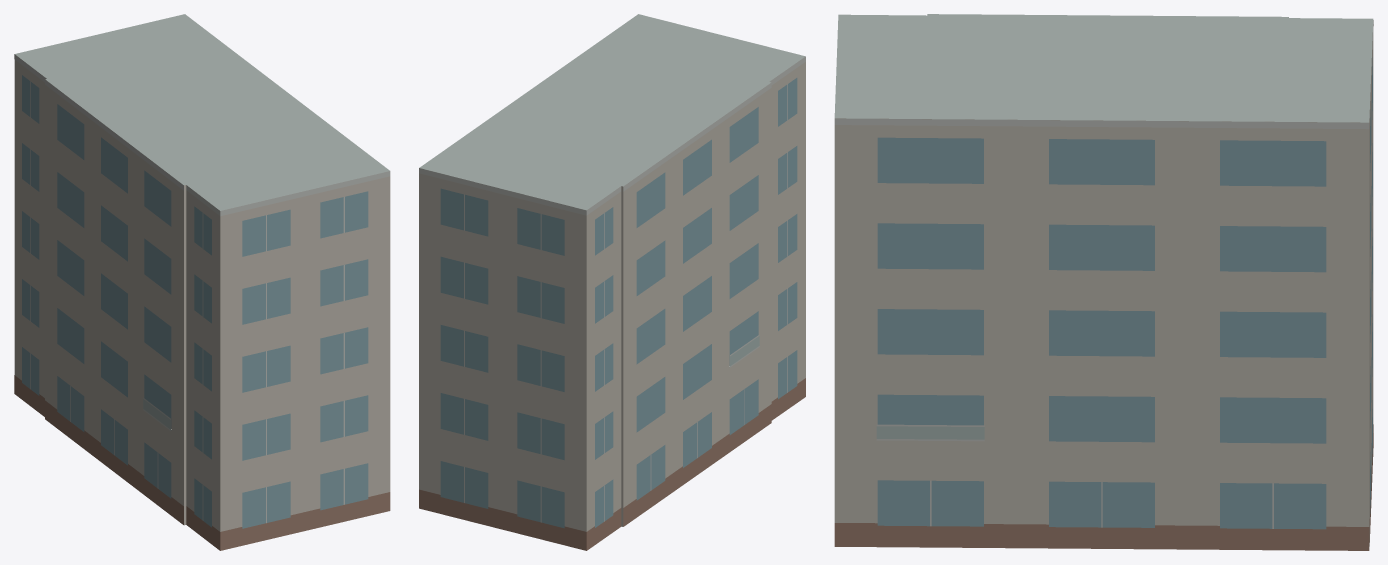
Rendered from survey-upis-32739587.glb.
3 views of the same model, side by side, from view 1: azimuth 30°, elevation 25°; view 2: azimuth 150°, elevation 25°; view 3: azimuth 270°, elevation 25° (orthographic). The views are drawn at different scales.
Visible parts, largest first — view 1: survey-upis-32739587.tmp; view 2: survey-upis-32739587.tmp; view 3: survey-upis-32739587.tmp.
Boxes of the visible parts, box(x1,y1,x2,y2) form: survey-upis-32739587.tmp: box(14, 14, 390, 550); survey-upis-32739587.tmp: box(419, 14, 805, 550); survey-upis-32739587.tmp: box(834, 14, 1373, 550).
Bounding box in the file's own units: 8.55 × 15.7 × 17.91.
